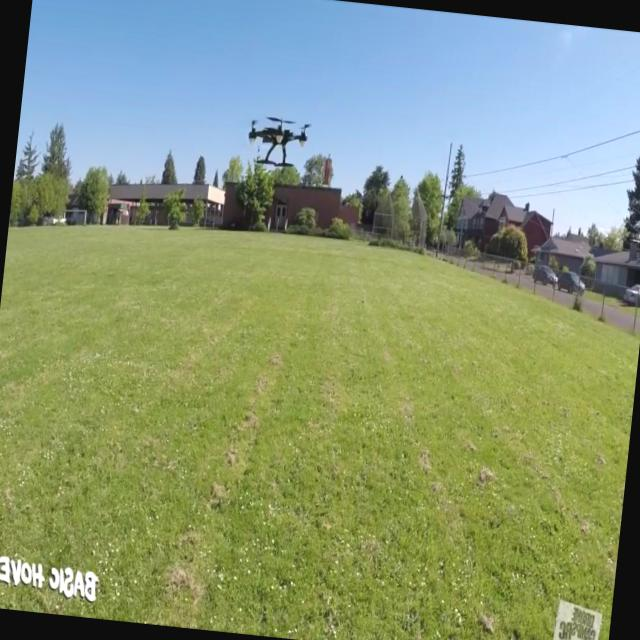drone: (245, 110, 311, 172)
